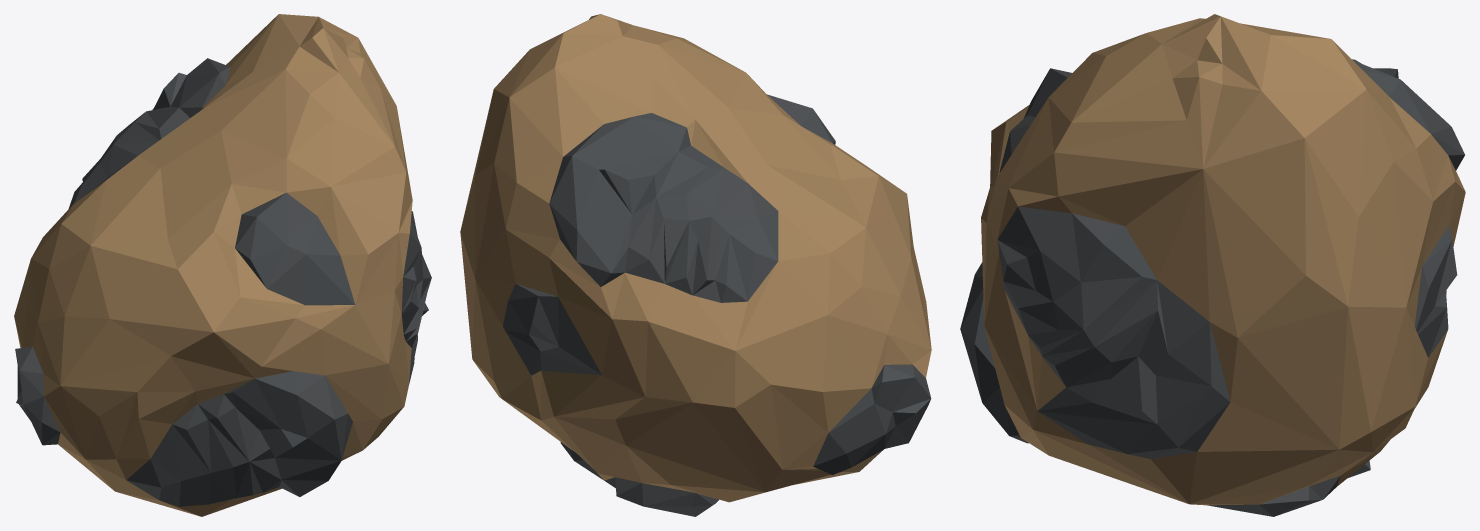
Rendered from SM_LP_FossilNode_4.fbx.
3 views of the same model, side by side, from view 1: azimuth 30°, elevation 25°; view 2: azimuth 150°, elevation 25°; view 3: azimuth 270°, elevation 25° (orthographic). The views are drawn at different scales.
Visible parts, largest first — view 1: SM_LP_FossilNode_4; view 2: SM_LP_FossilNode_4; view 3: SM_LP_FossilNode_4.
Part boxes in pixels (x1,y1,x2,y2): SM_LP_FossilNode_4: [14, 14, 431, 516]; SM_LP_FossilNode_4: [460, 14, 931, 516]; SM_LP_FossilNode_4: [960, 14, 1465, 516].
Bounding box in the file's own units: 0.8873 × 0.9128 × 0.7843.
